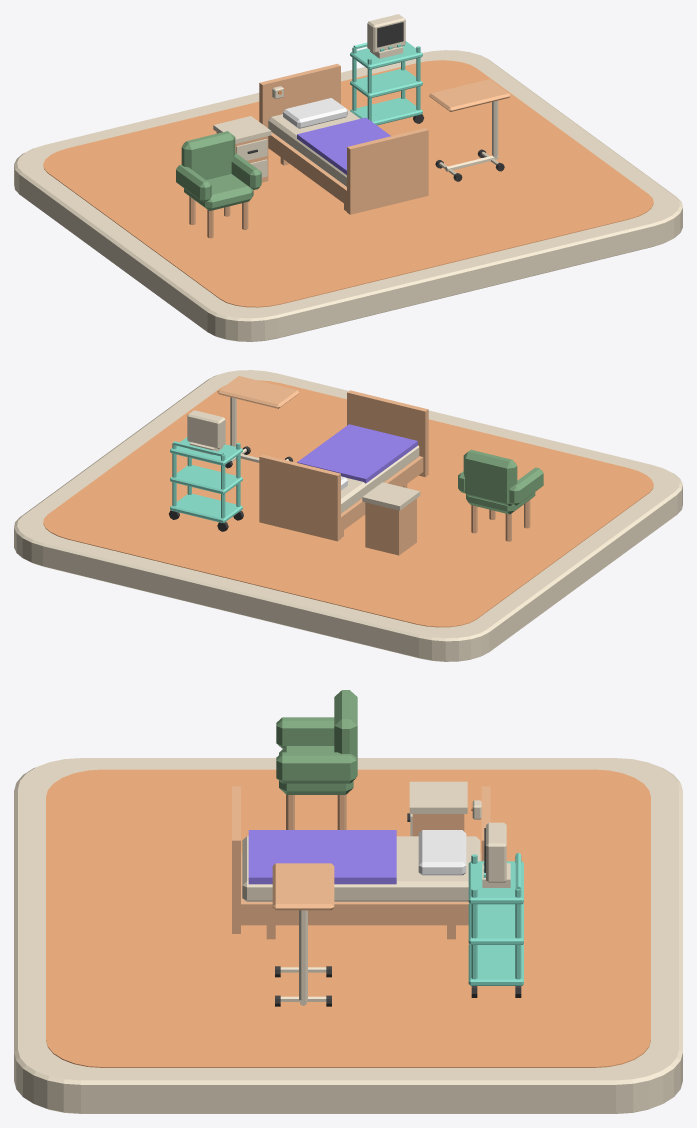
3 renders of one model, top to bottom at view 1: azimuth 30°, elevation 25°; view 2: azimuth 150°, elevation 25°; view 3: azimuth 270°, elevation 25°, orthographic. The views are drawn at different scales.
Parts seen in each view (by area): view 1: COM-02 Floor Surface, COM-01 Rounded Base Direct, End board, End board.001, Blanket, Back, Mattress, Table top, Frame, Cushion, Pillow, Tray.001 (+7 smaller); view 2: COM-02 Floor Surface, COM-01 Rounded Base Direct, End board.001, Blanket, End board, Body, Back, Table top, Housing, Mattress, Tray, Tray.001 (+5 smaller); view 3: COM-02 Floor Surface, COM-01 Rounded Base Direct, Blanket, Mattress, Frame, Table top, Arm.001, Pillow, Tray, Tray.001, Top, Arm (+7 smaller).
Part boxes in pixels (x1,y1,x2,y2): COM-02 Floor Surface: (43, 60, 653, 307); COM-01 Rounded Base Direct: (14, 50, 682, 341); End board: (347, 128, 428, 214); End board.001: (259, 63, 340, 148); Blanket: (297, 117, 391, 174); Back: (181, 131, 235, 179); Mattress: (268, 102, 359, 186); Table top: (429, 79, 510, 111); Frame: (268, 132, 346, 205); Cushion: (184, 174, 253, 210); Pillow: (283, 98, 347, 128); Tray.001: (350, 69, 422, 98); COM-02 Floor Surface: (43, 380, 653, 627); COM-01 Rounded Base Direct: (14, 370, 682, 661); End board.001: (259, 454, 340, 541); Blanket: (297, 424, 417, 483); End board: (347, 390, 428, 477); Body: (365, 498, 416, 555); Back: (463, 449, 517, 505); Table top: (217, 376, 299, 408); Housing: (187, 410, 225, 448); Mattress: (341, 445, 419, 513); Tray: (170, 493, 242, 523); Tray.001: (170, 465, 242, 494); COM-02 Floor Surface: (46, 769, 650, 1067); COM-01 Rounded Base Direct: (14, 758, 682, 1113); Blanket: (248, 830, 396, 884); Mattress: (242, 836, 480, 901); Frame: (241, 853, 481, 925); Table top: (272, 863, 334, 910); Arm.001: (276, 752, 356, 783); Pillow: (418, 830, 466, 875); Tray: (468, 944, 523, 985); Tray.001: (468, 903, 523, 944); Top: (409, 781, 467, 813); Arm: (276, 717, 334, 748).
Size of the model in its own units: 6 by 1.56 by 5.2.
Materials: 1 (1 with a texture image).
